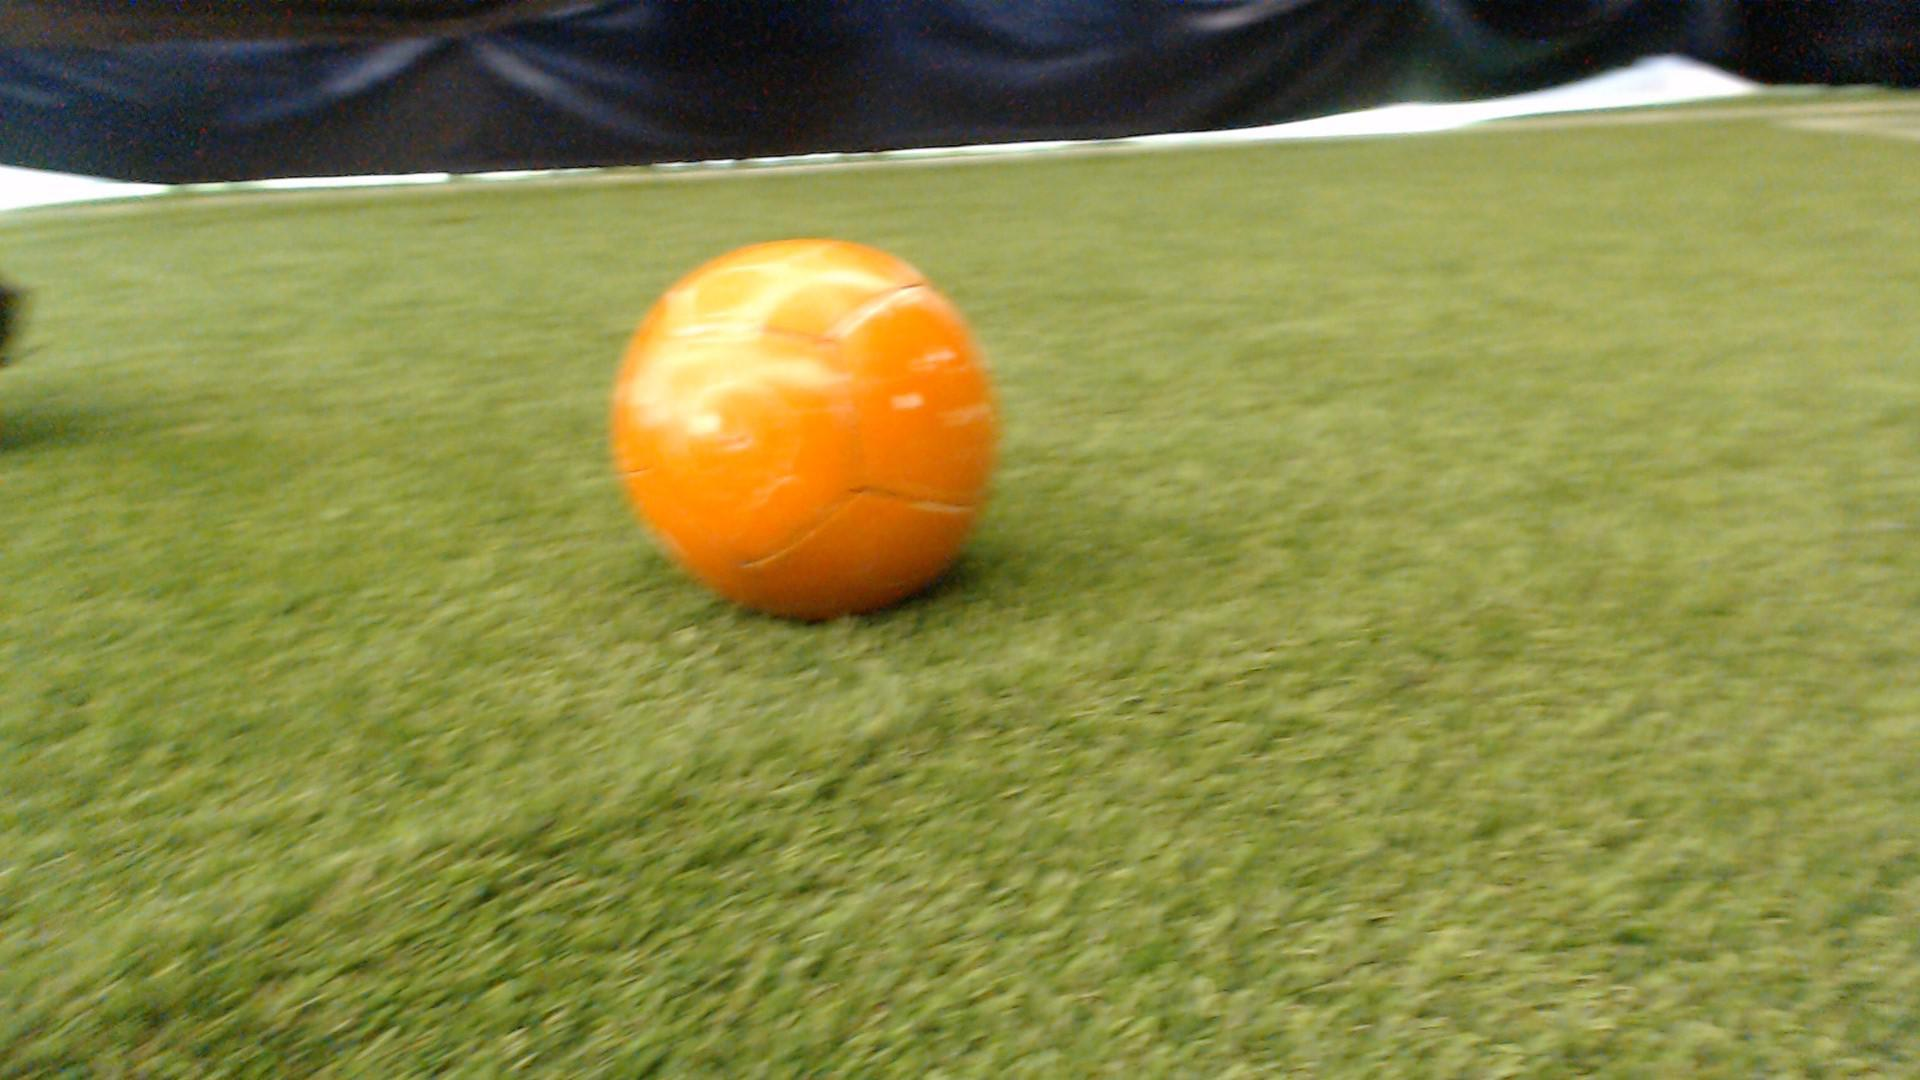bola: (595, 203, 1031, 653)
